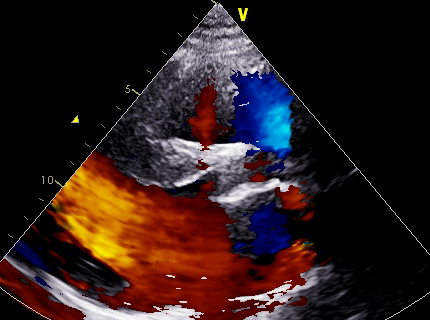AR: (164, 150, 272, 203)
